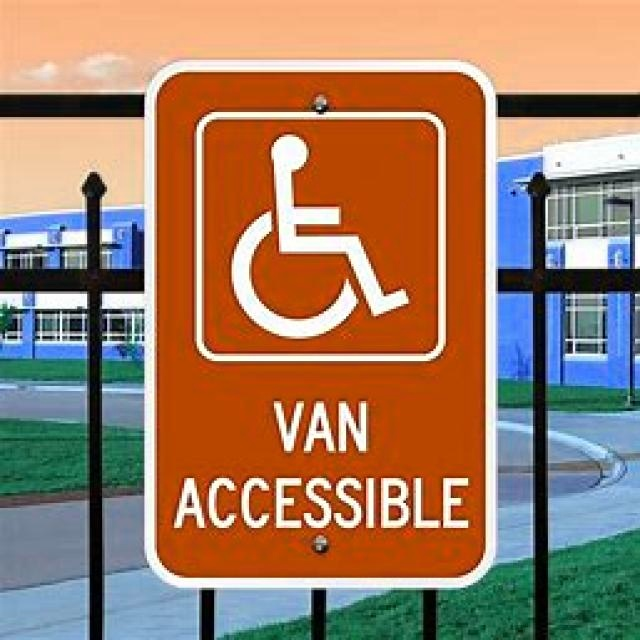ISA: (231, 136, 408, 341)
